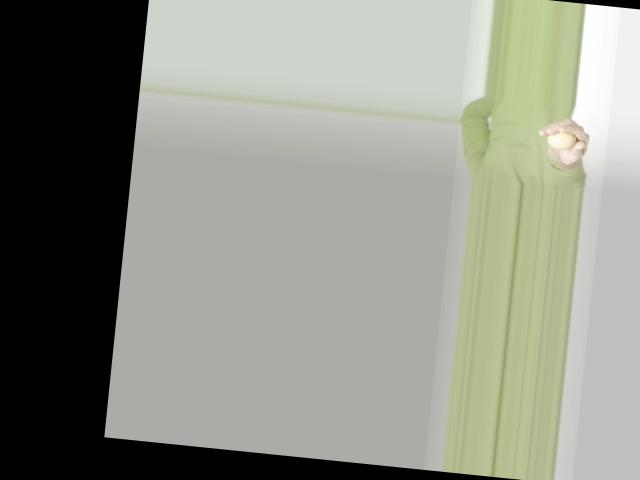egg: (545, 130, 576, 150)
